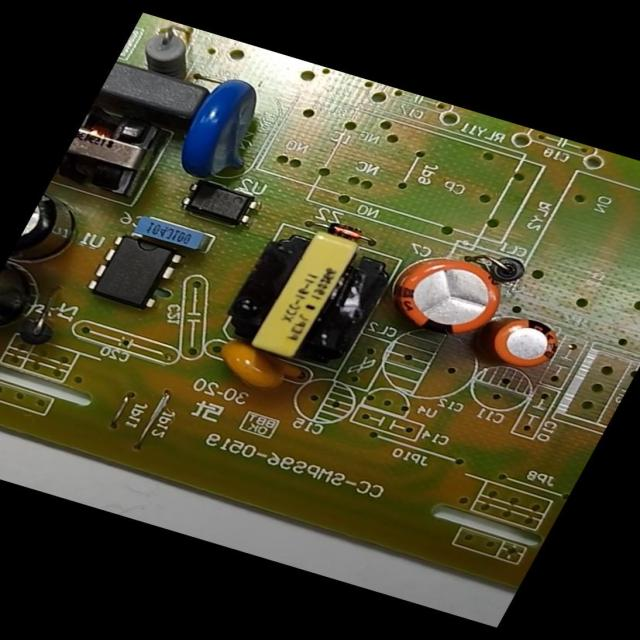Cap1: (369, 236, 531, 358)
Cap2: (462, 300, 580, 383)
Cap3: (5, 184, 106, 281)
Cap4: (0, 250, 73, 354)
MOSFET: (74, 222, 198, 322)
Mov: (158, 67, 294, 194)
Resistor: (124, 17, 218, 87)
Transformer: (205, 212, 415, 379), (50, 100, 183, 210)
